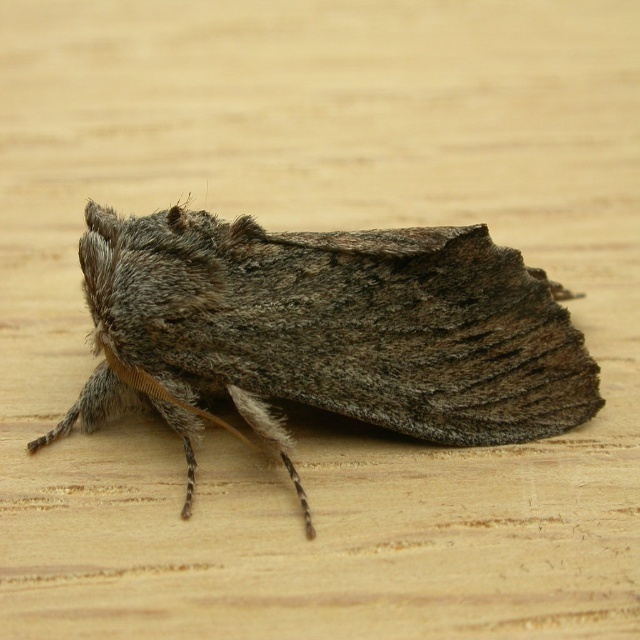Moths and butterflies: (28, 197, 609, 544)
